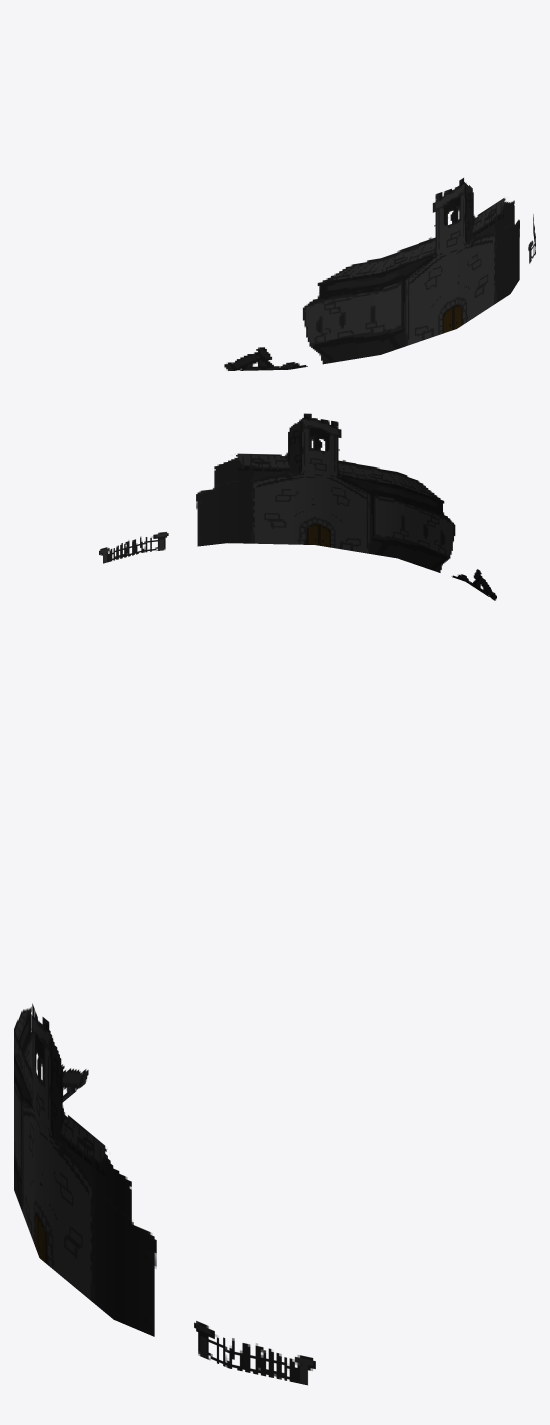
The model's file is cutscenemonasteryplane.glb.
3 views of the same model, one above another, from view 1: azimuth 30°, elevation 25°; view 2: azimuth 150°, elevation 25°; view 3: azimuth 270°, elevation 25° (orthographic). The views are drawn at different scales.
Visible parts, largest first — view 1: planodetalhe_geo; view 2: planodetalhe_geo; view 3: planodetalhe_geo.
Boxes of the visible parts, x1=… form: planodetalhe_geo: x1=224, y1=178, x2=535, y2=370; planodetalhe_geo: x1=99, y1=413, x2=496, y2=600; planodetalhe_geo: x1=14, y1=1003, x2=315, y2=1385.
Bounding box in the file's own units: 44.71 × 12.88 × 22.92.
Materials: 1 (1 with a texture image).
